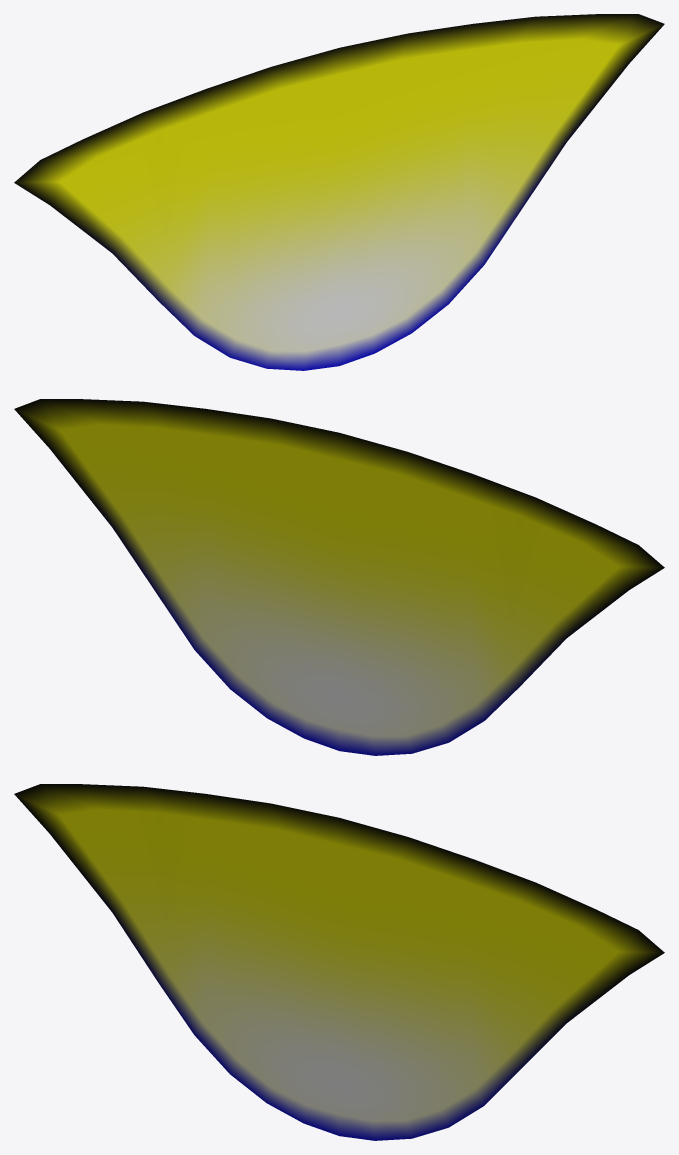
The model's file is MouthStickerDog1.FBX.
3 views of the same model, one above another, from view 1: azimuth 30°, elevation 25°; view 2: azimuth 150°, elevation 25°; view 3: azimuth 330°, elevation 25° (orthographic).
Visible parts, largest first — view 1: Line006; view 2: Line006; view 3: Line006.
Part boxes in pixels (left/top/right/bottom): Line006: left=14, top=14, right=664, bottom=370; Line006: left=14, top=399, right=664, bottom=755; Line006: left=14, top=784, right=664, bottom=1140.
Size of the model in its own units: 34.2 by 5.16e-06 by 15.98.
